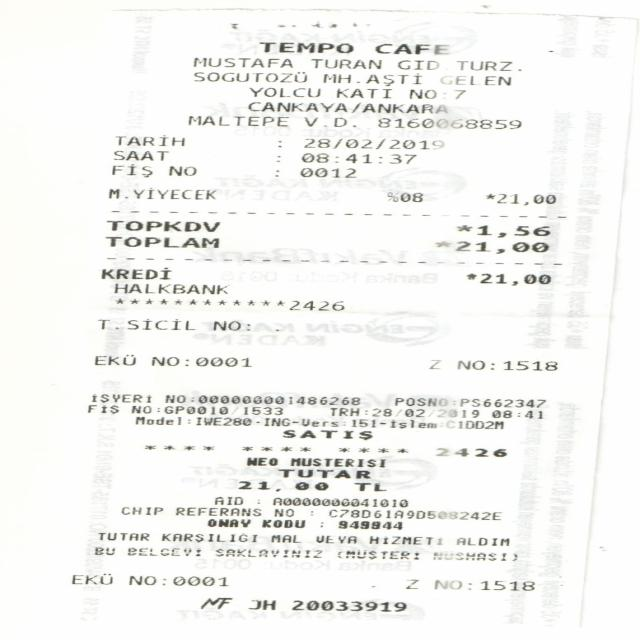text: (247, 101, 445, 113), (163, 394, 359, 406), (377, 117, 521, 129), (327, 509, 499, 519), (114, 297, 284, 307), (314, 137, 444, 150), (192, 69, 306, 83), (435, 240, 548, 254), (129, 405, 282, 415), (393, 397, 544, 407), (328, 407, 478, 417), (103, 236, 217, 248), (292, 600, 405, 612), (272, 497, 407, 507), (320, 72, 422, 85), (95, 318, 197, 331), (107, 186, 214, 198), (105, 220, 218, 231), (454, 359, 557, 371), (114, 283, 226, 294), (432, 579, 534, 591), (464, 272, 550, 286), (150, 356, 250, 368), (129, 574, 228, 586), (135, 416, 251, 426), (302, 153, 415, 163), (456, 225, 548, 237), (187, 115, 286, 126), (214, 548, 321, 558), (258, 42, 352, 53), (193, 57, 292, 67), (290, 457, 384, 467), (162, 532, 256, 542), (276, 468, 368, 478), (283, 430, 372, 440), (238, 481, 327, 491), (430, 552, 518, 562), (99, 267, 172, 279), (350, 418, 436, 428), (113, 134, 184, 146), (336, 550, 420, 560), (310, 58, 380, 69), (484, 193, 554, 204), (176, 507, 260, 516), (441, 74, 509, 85), (262, 417, 336, 427), (374, 44, 447, 54), (247, 87, 318, 97), (436, 447, 506, 457), (126, 547, 201, 556), (456, 60, 522, 70), (404, 88, 464, 99), (444, 419, 503, 430), (292, 299, 341, 311), (336, 520, 401, 529), (367, 536, 439, 544), (108, 164, 152, 177), (298, 167, 354, 177), (92, 353, 135, 366), (336, 88, 390, 98), (112, 150, 166, 160), (90, 393, 149, 402), (302, 116, 355, 126), (490, 409, 542, 419), (70, 573, 111, 585), (337, 446, 407, 453), (456, 537, 508, 546), (213, 320, 251, 331), (96, 532, 148, 540), (396, 60, 437, 70), (241, 446, 308, 452), (315, 534, 355, 544), (206, 518, 249, 527), (260, 519, 303, 528), (198, 597, 230, 609), (83, 404, 118, 414), (144, 445, 213, 450), (120, 506, 162, 514), (385, 192, 421, 201), (245, 457, 276, 466), (212, 496, 243, 505), (168, 165, 195, 175), (353, 482, 385, 490), (247, 600, 274, 609), (269, 534, 299, 542), (93, 546, 115, 556), (426, 359, 442, 369), (272, 508, 292, 516), (403, 579, 419, 589), (273, 139, 283, 148), (271, 168, 280, 177), (272, 154, 282, 162), (318, 520, 324, 528), (306, 510, 313, 516)
